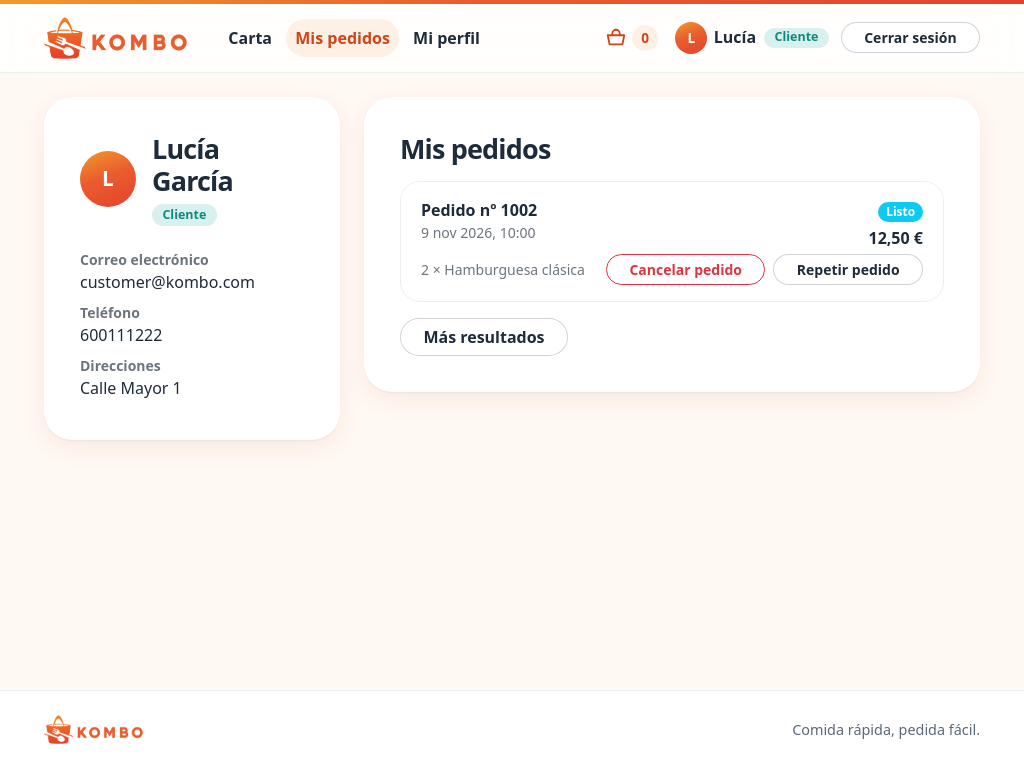
Test: ProfilePage › shows the data and the last orders of the customer, 4 at a time
The width and height of the screenshot is (1024, 768).
Check: the text "customer@kombo.com" is shown, box [80, 271, 255, 293]
Check: the text "Calle Mayor 1" is shown, box [80, 377, 182, 399]
Click the button "Más resultados".
click(484, 337)  # box [400, 318, 568, 356]
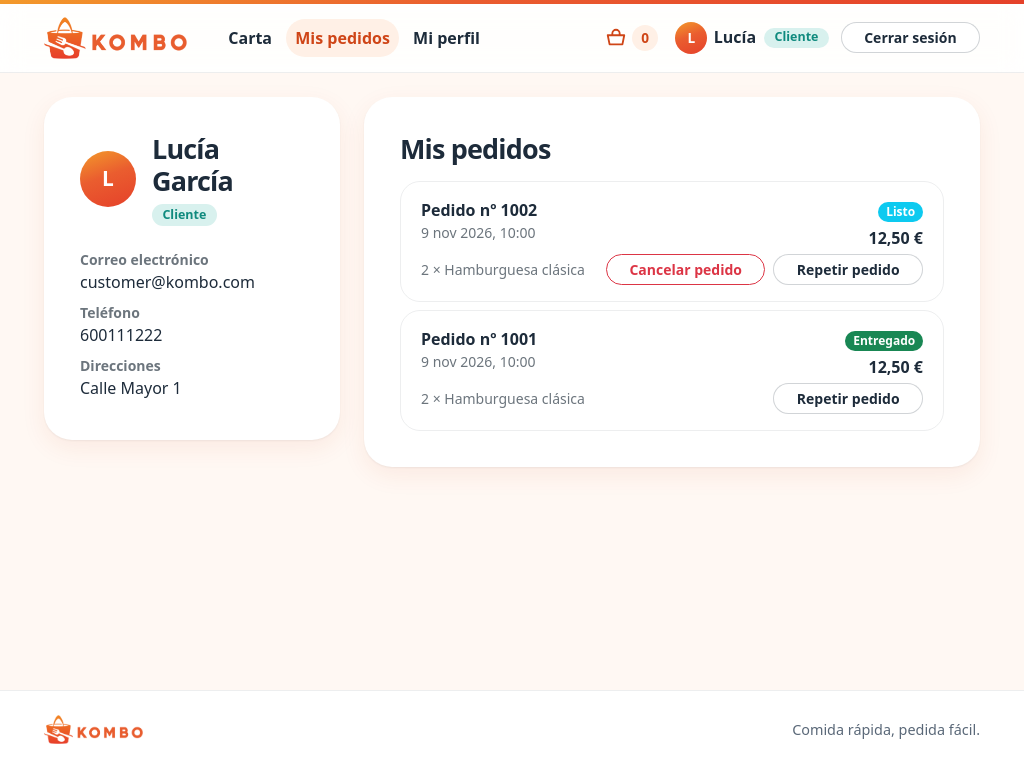
Check: the text "Entregado" is shown, box [845, 331, 923, 351]
